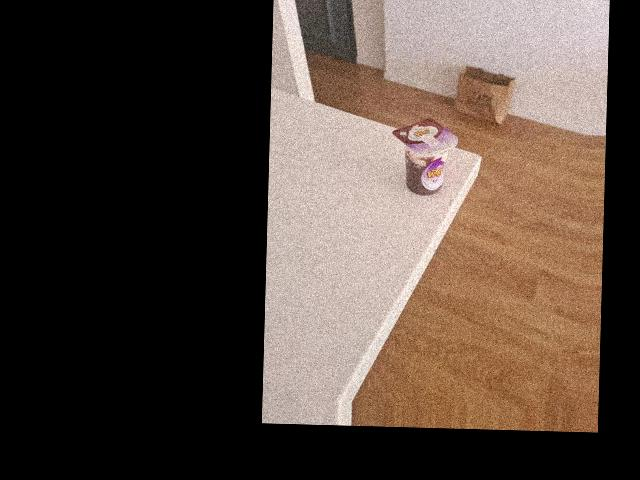milky: (394, 117, 455, 194)
